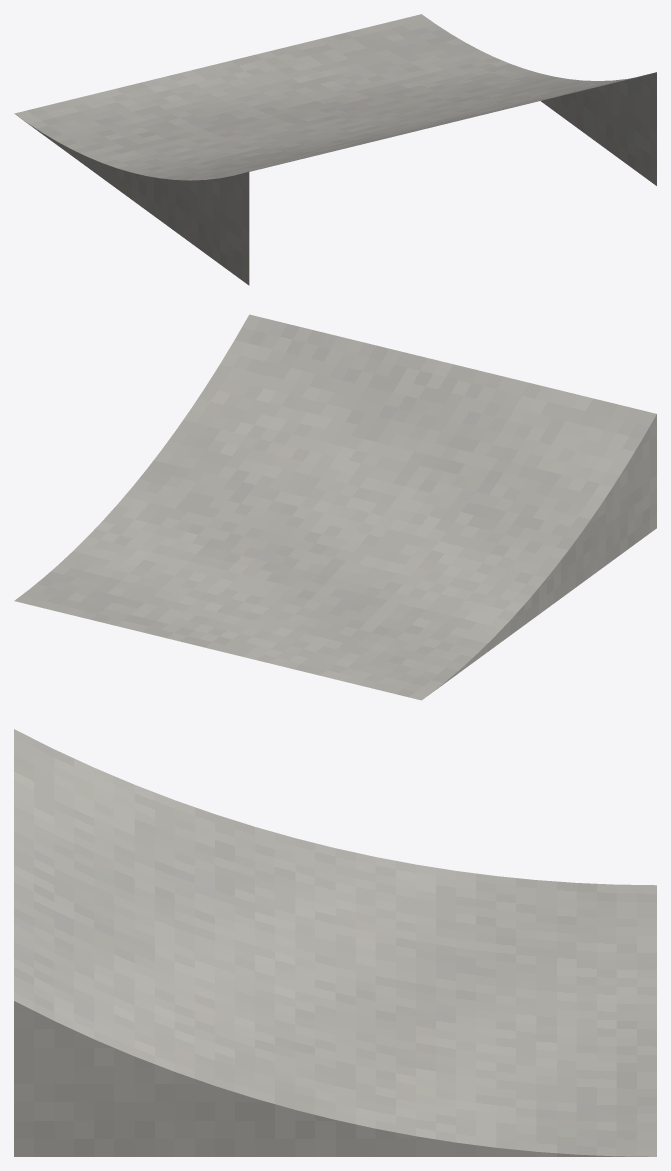
File: qp_large_front.obj
The picture shows the model from 3 angles, top to bottom: view 1: azimuth 30°, elevation 25°; view 2: azimuth 150°, elevation 25°; view 3: azimuth 270°, elevation 25°; orthographic projection. The views are drawn at different scales.
Parts seen in each view (by area): view 1: qp_large_front; view 2: qp_large_front; view 3: qp_large_front.
Part boxes in pixels (x1,y1,x2,y2): qp_large_front: [14, 14, 656, 285]; qp_large_front: [14, 314, 656, 700]; qp_large_front: [14, 729, 656, 1156].
Size of the model in its own units: 1 by 0.2679 by 1.
